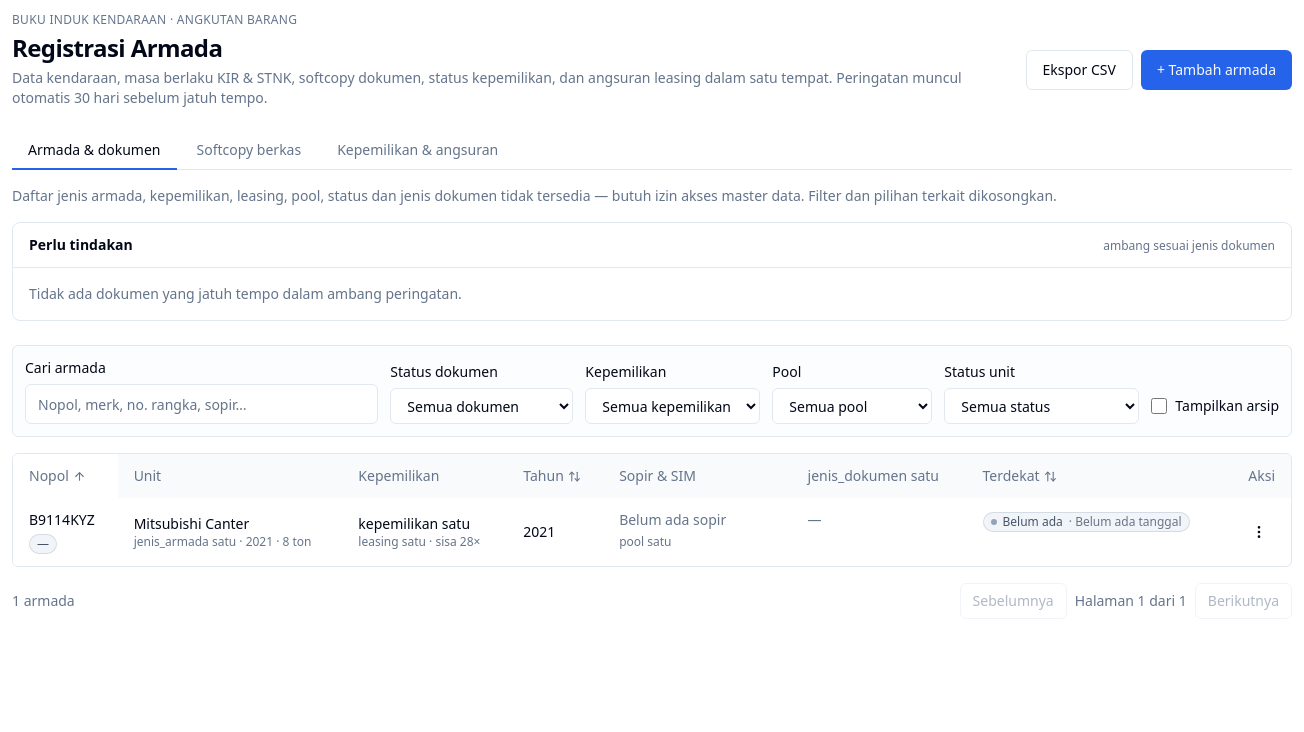
Test case: FleetVehiclesPage › files and instalments tabs › switches between the armada, berkas, and angsuran tabs
Check: the text "1 armada" is shown, box [12,591,75,611]
Click the tab "Softcopy berkas" at (249, 151), box [180,132,317,170]
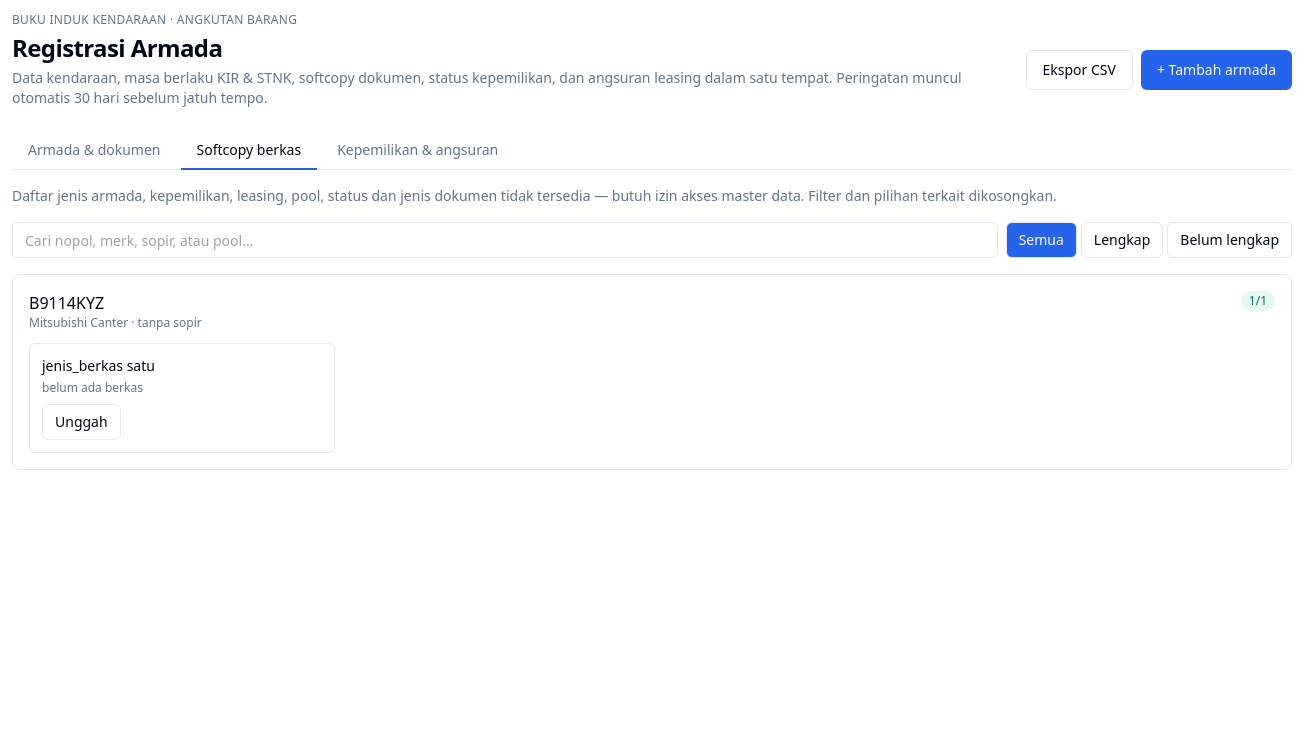
Check: the field with placeholder "Cari nopol, merk, sopir, atau pool…" is shown, box [12,222,998,258]
Click the tab "Kepemilikan & angsuran" at (418, 151), box [321,132,514,170]
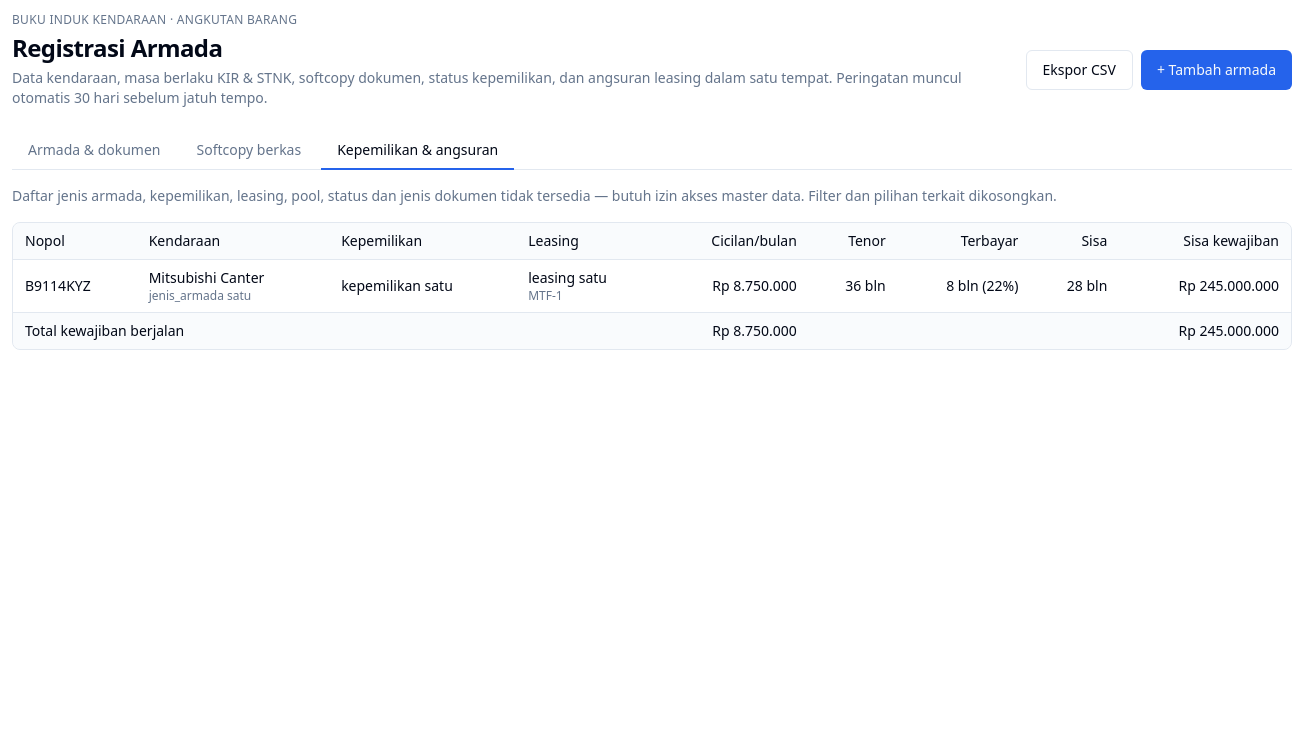
Check: the text "Total kewajiban berjalan" is shown, box [13,312,658,349]
